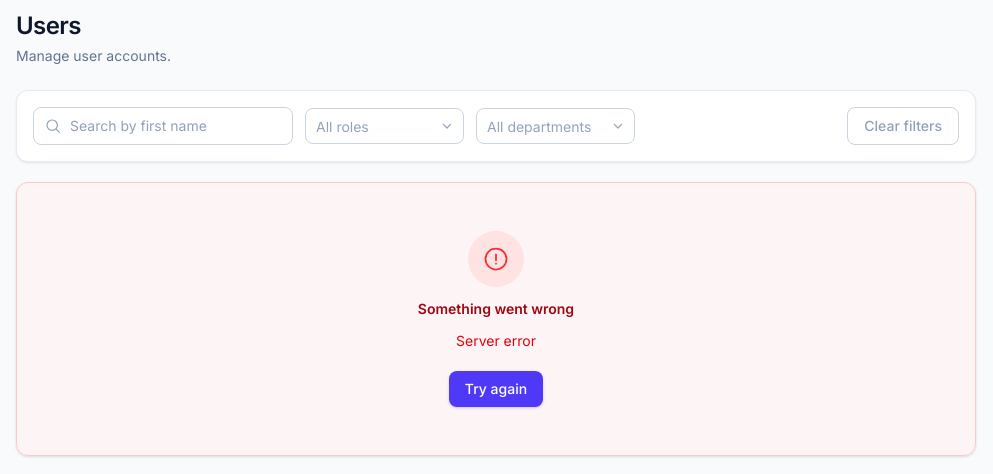
UsersListPage › shows an error state and retries on click
Check: the message shows "Server error", box [456,332,536,349]
Step 1. Click the button "Try again" → (496, 389), box [449,371,543,407]
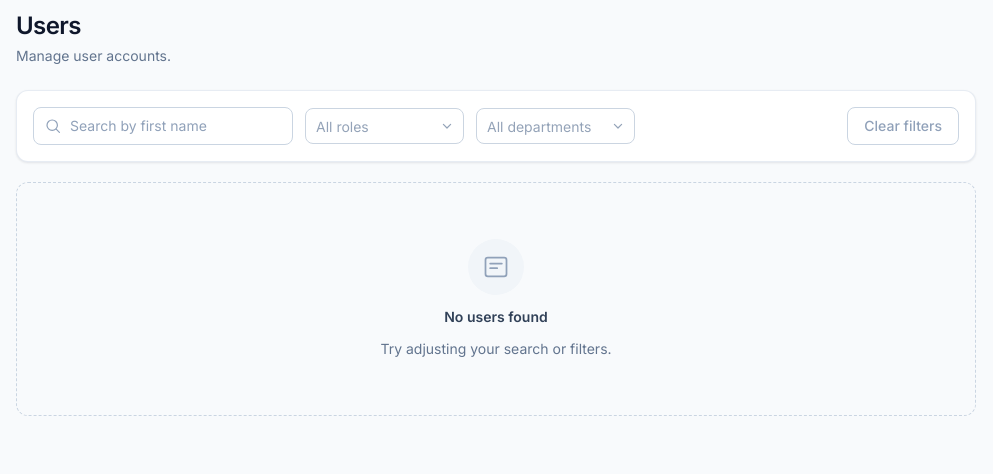
Check: the text "No users found" is shown, box [444,307,548,327]
